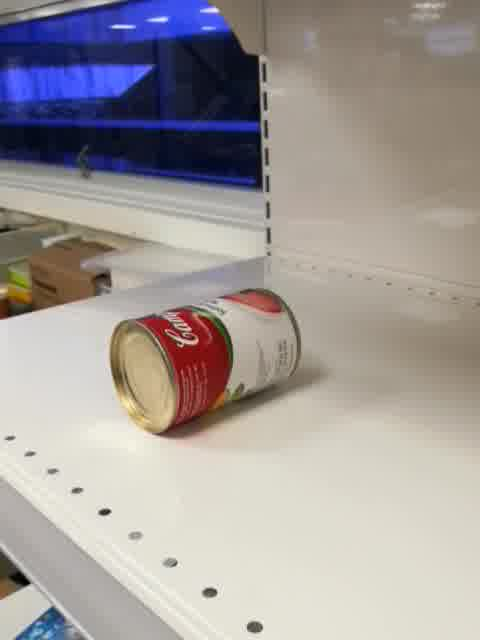tomatosoup: (107, 287, 305, 438)
